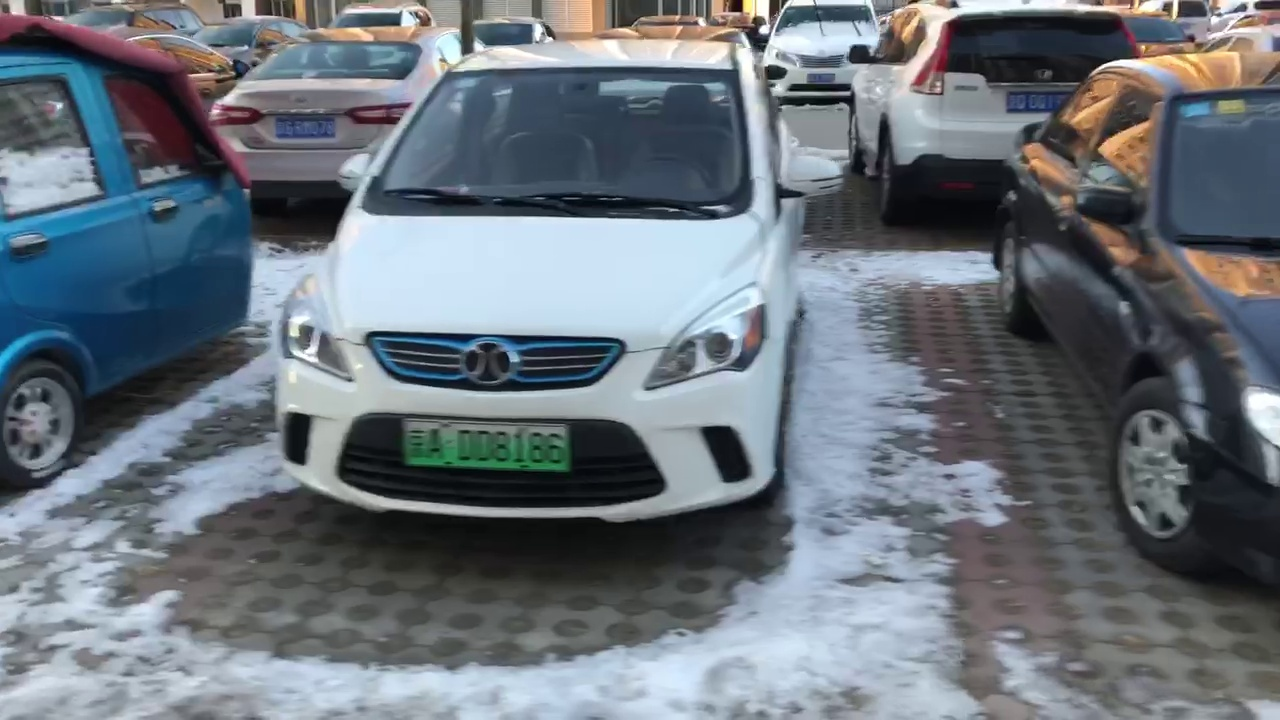plate: (398, 417, 576, 472)
